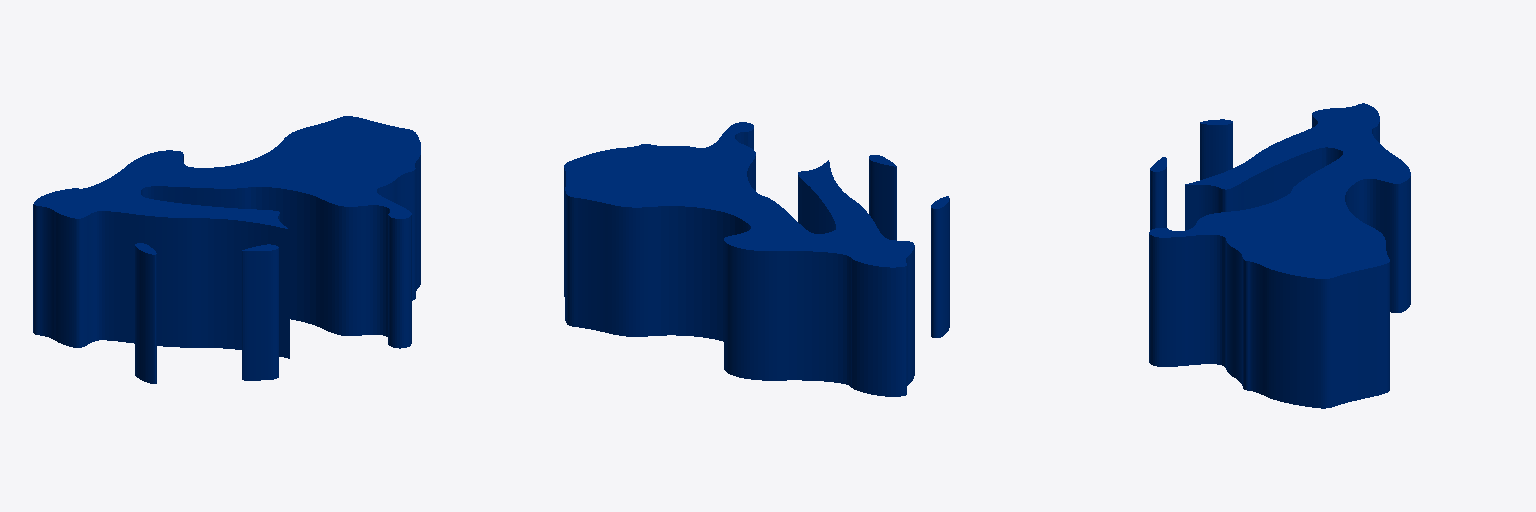
3 renders of one model, left to right at view 1: azimuth 30°, elevation 25°; view 2: azimuth 150°, elevation 25°; view 3: azimuth 270°, elevation 25°, orthographic.
Visible parts, largest first — view 1: Curve.032_path4242; view 2: Curve.032_path4242; view 3: Curve.032_path4242.
Boxes of the visible parts, <box> form: Curve.032_path4242: <box>33,116,420,383</box>; Curve.032_path4242: <box>564,122,949,396</box>; Curve.032_path4242: <box>1149,103,1410,408</box>.
Size of the model in its own units: 0.2915 by 0.1 by 0.1832.